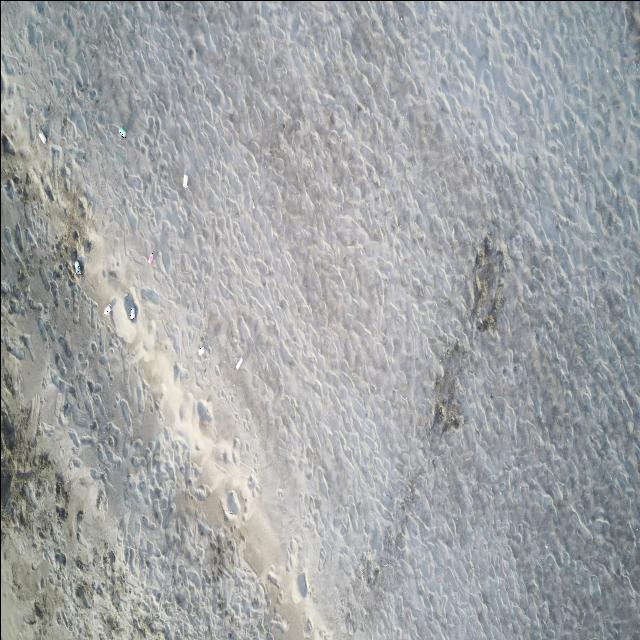Garbage: (123, 292, 138, 320), (128, 307, 135, 320), (147, 252, 154, 263), (39, 129, 44, 143), (103, 303, 110, 313), (75, 260, 80, 273), (183, 173, 187, 187), (119, 127, 124, 138), (236, 356, 240, 368), (198, 346, 203, 355)
